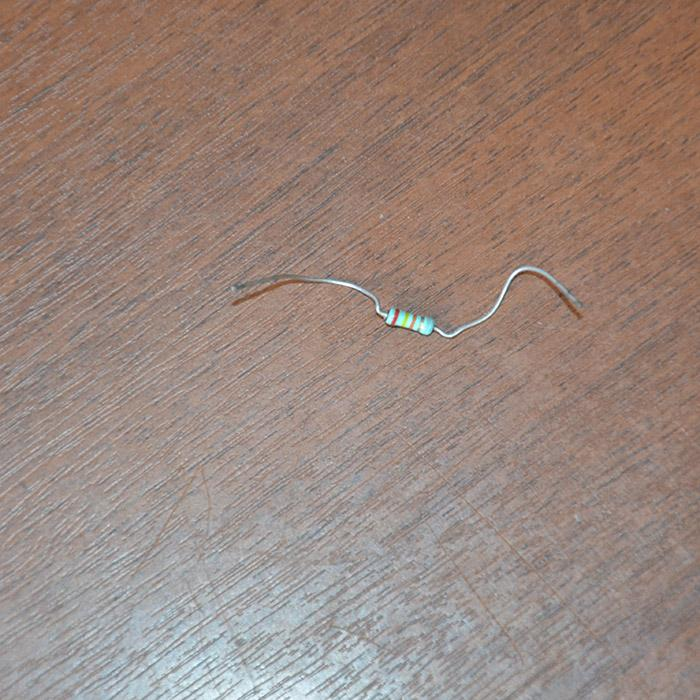resistor: (383, 306, 435, 336)
